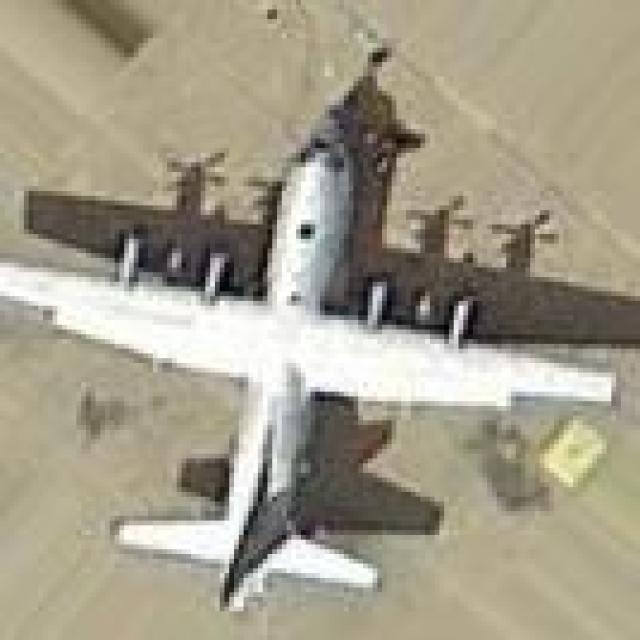C-130_TopDown: (5, 51, 640, 616)
